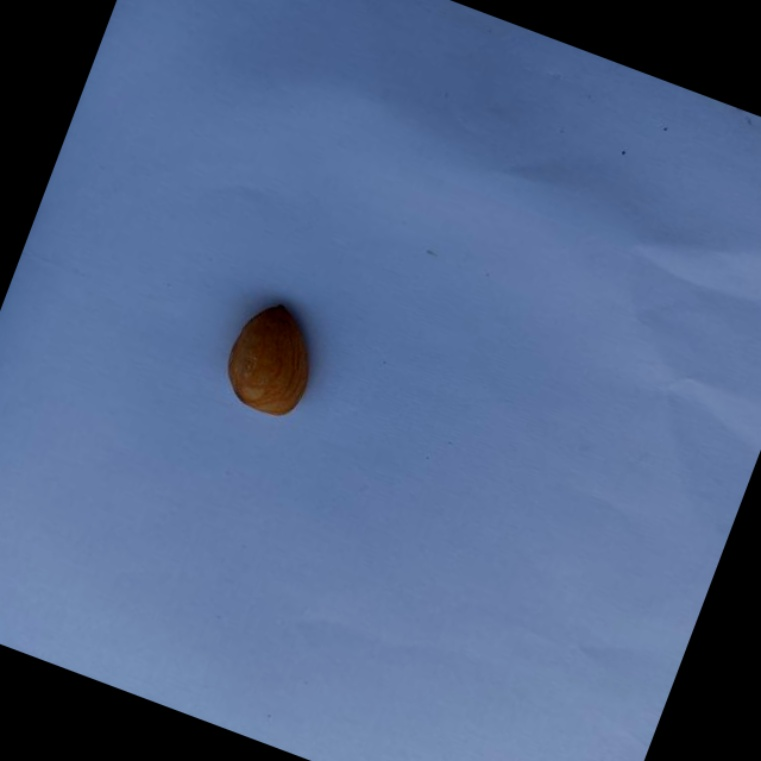grade2: (210, 290, 339, 430)
